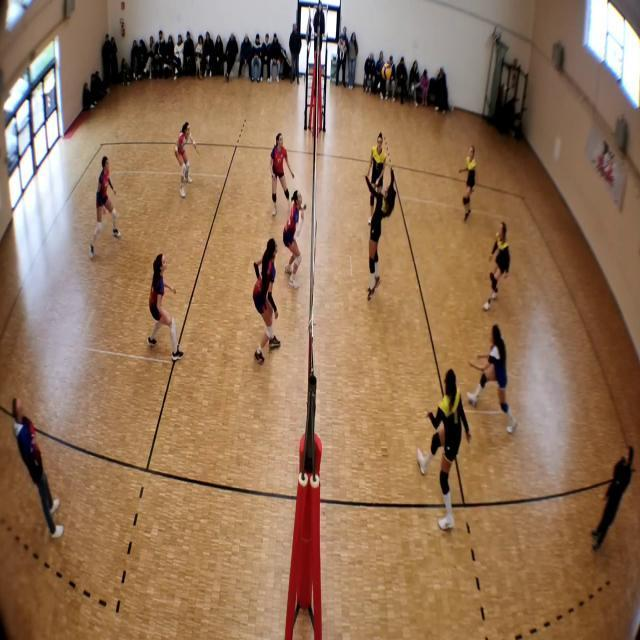volleyball: (382, 63, 392, 79)
